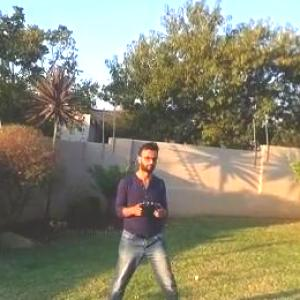follow: (102, 137, 184, 299)
